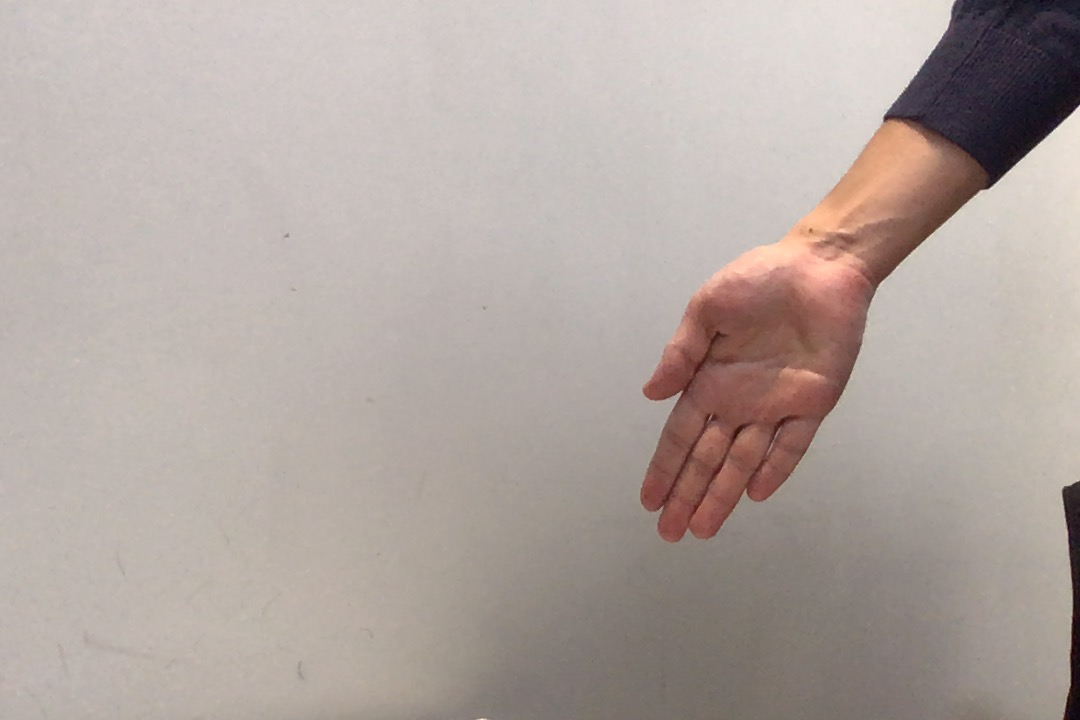palmhand: (630, 245, 871, 555)
